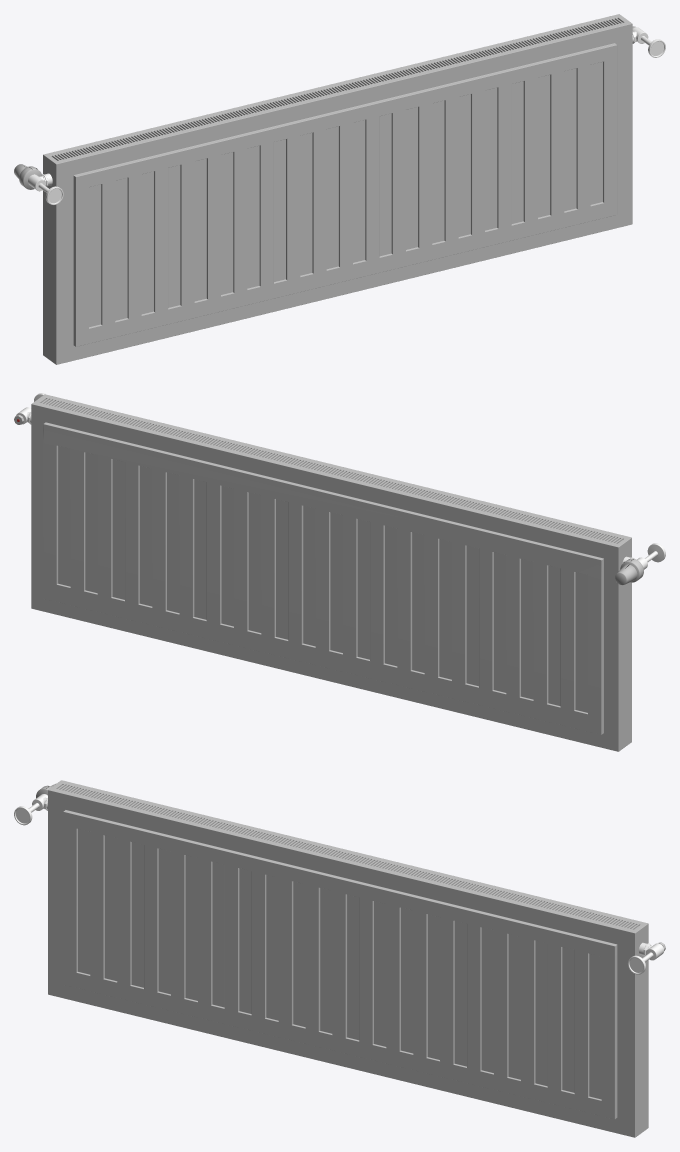
File: bk_radiator.glb
The picture shows the model from 3 angles, top to bottom: view 1: azimuth 30°, elevation 25°; view 2: azimuth 150°, elevation 25°; view 3: azimuth 330°, elevation 25°; orthographic projection.
Visible parts, largest first — view 1: Radiator.001; view 2: Radiator.001, Cylinder.003; view 3: Radiator.001.
Boxes of the visible parts, bbox=[...] form: Radiator.001: bbox=[28, 14, 665, 364]; Radiator.001: bbox=[14, 393, 665, 751]; Cylinder.003: bbox=[615, 558, 643, 585]; Radiator.001: bbox=[14, 780, 665, 1137].
Size of the model in its own units: 1.62 by 0.5 by 0.1625.
Materials: 5 (3 with a texture image).
